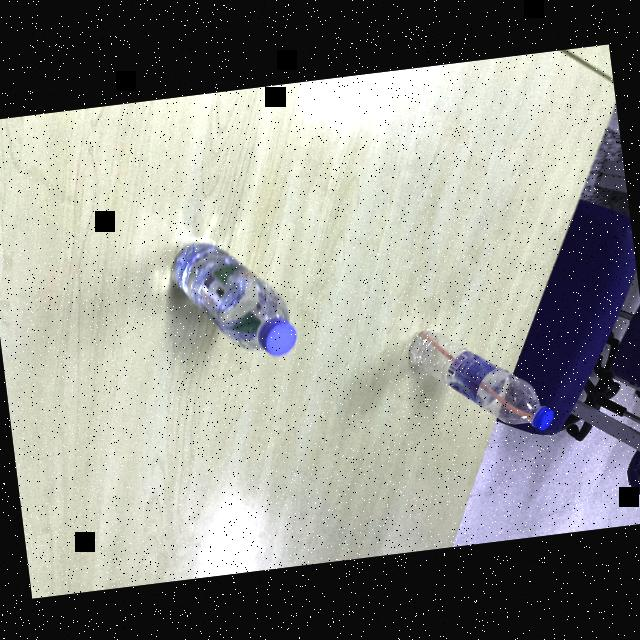plastic_bottle: (402, 312, 560, 446), (160, 225, 302, 366)
